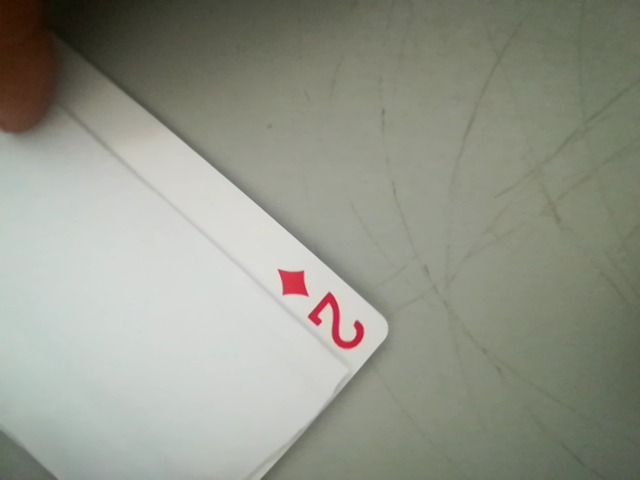fk 2: (273, 257, 381, 366)
